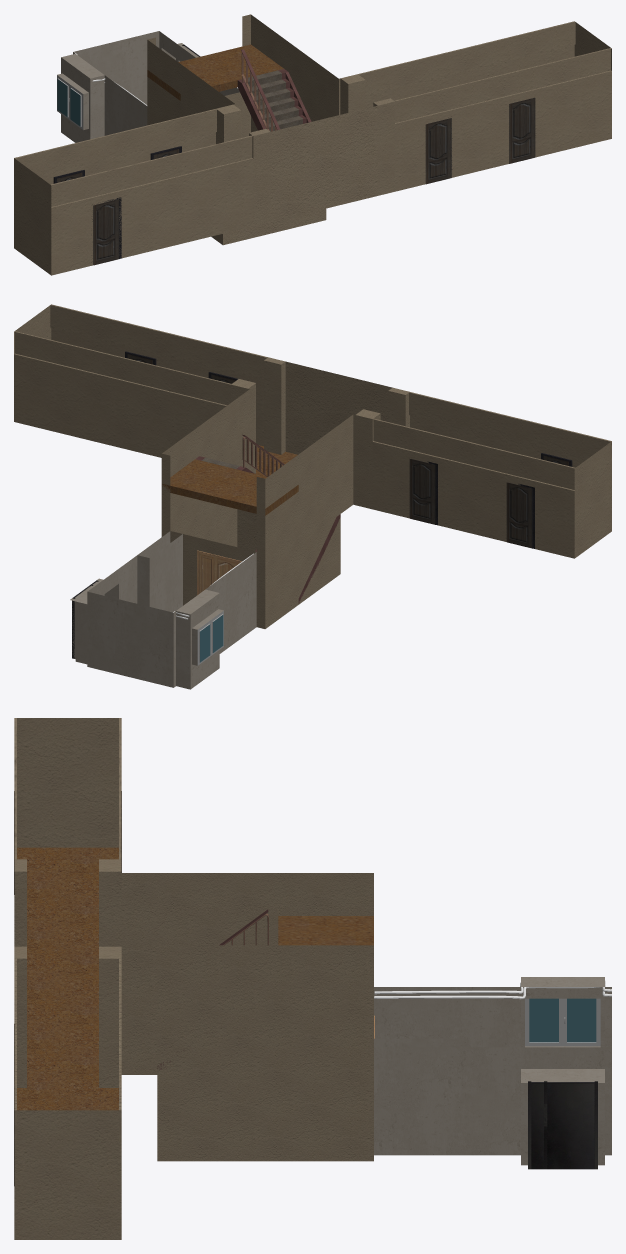
File: near_to_exit.gltf
The picture shows the model from 3 angles, top to bottom: view 1: azimuth 30°, elevation 25°; view 2: azimuth 150°, elevation 25°; view 3: azimuth 270°, elevation 25°; orthographic projection. The views are drawn at different scales.
Parts seen in each view (by area): view 1: Cube.014, Plane, walls, Cube.016, Cube.035, Cube.017, Cube.019, Cube.033, Cube.021, Cube.025, Plane.002, Cube.020 (+2 smaller); view 2: Cube.014, walls, Plane, Cube.035, Cube.005, Cube.019, Cube.028, Cube.031, Plane.002, Cube.017, Cube.020, Plane.004 (+1 smaller); view 3: walls, Cube.014, Plane, Cube.023, Cube, Plane.002, Cube.035, Cube.020, Cube.018, Cube.019, Cube.003, Cube.017 (+2 smaller).
Part boxes in pixels (x1,y1,x2,y2): Cube.014: (14,21,611,275); Plane: (57,31,242,142); walls: (147,14,326,244); Cube.016: (237,69,311,131); Cube.035: (147,44,283,100); Cube.017: (249,129,270,226); Cube.019: (373,98,394,195); Cube.033: (93,199,119,265); Cube.021: (425,118,451,184); Cube.025: (509,97,535,163); Plane.002: (57,75,83,129); Cube.020: (340,74,365,114); Cube.014: (14,304,611,558); walls: (161,398,340,628); Plane: (70,531,256,689); Cube.035: (162,459,298,515); Cube.005: (137,534,182,612); Cube.019: (264,357,285,454); Cube.028: (506,482,532,548); Cube.031: (409,458,435,524); Plane.002: (197,611,223,665); Cube.017: (388,387,409,427); Cube.020: (231,379,255,473); Plane.004: (242,437,283,476); walls: (157,873,373,1161); Cube.014: (14,718,157,1239); Plane: (374,977,611,1165); Cube.023: (17,847,118,1110); Cube: (547,1082,594,1169); Plane.002: (525,998,600,1046); Cube.035: (278,916,373,945); Cube.020: (99,946,121,1087); Cube.018: (99,859,121,946); Cube.019: (14,946,26,1087); Cube.003: (531,1082,543,1169); Cube.017: (14,859,26,946).
Size of the model in its own units: 19.5 by 5.09 by 12.56.
Materials: 11 (11 with a texture image).
